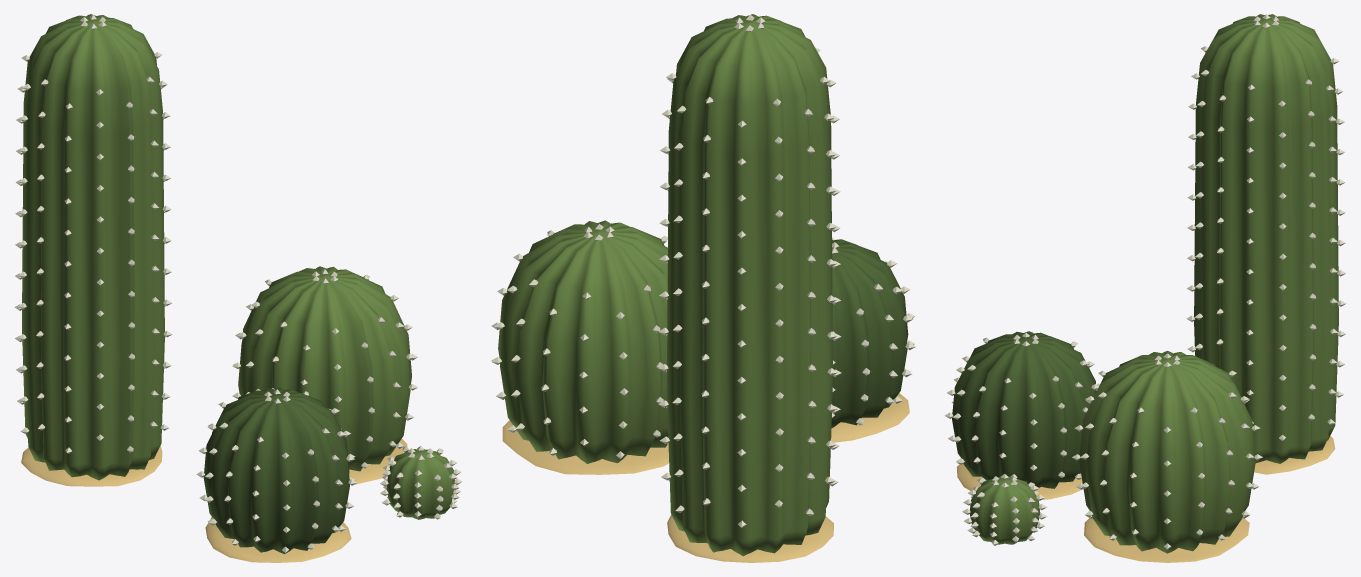
Rendered from detail_cactus_cluster.glb.
The picture shows the model from 3 angles, left to right: view 1: azimuth 30°, elevation 25°; view 2: azimuth 150°, elevation 25°; view 3: azimuth 270°, elevation 25°; orthographic projection. The views are drawn at different scales.
Parts seen in each view (by area): view 1: plaster; view 2: plaster; view 3: plaster.
Boxes of the visible parts, left/top/right/bottom form: plaster: left=14, top=14, right=462, bottom=562; plaster: left=491, top=14, right=915, bottom=562; plaster: left=944, top=14, right=1346, bottom=562.
Size of the model in its own units: 1.1 by 1.4 by 1.2.
